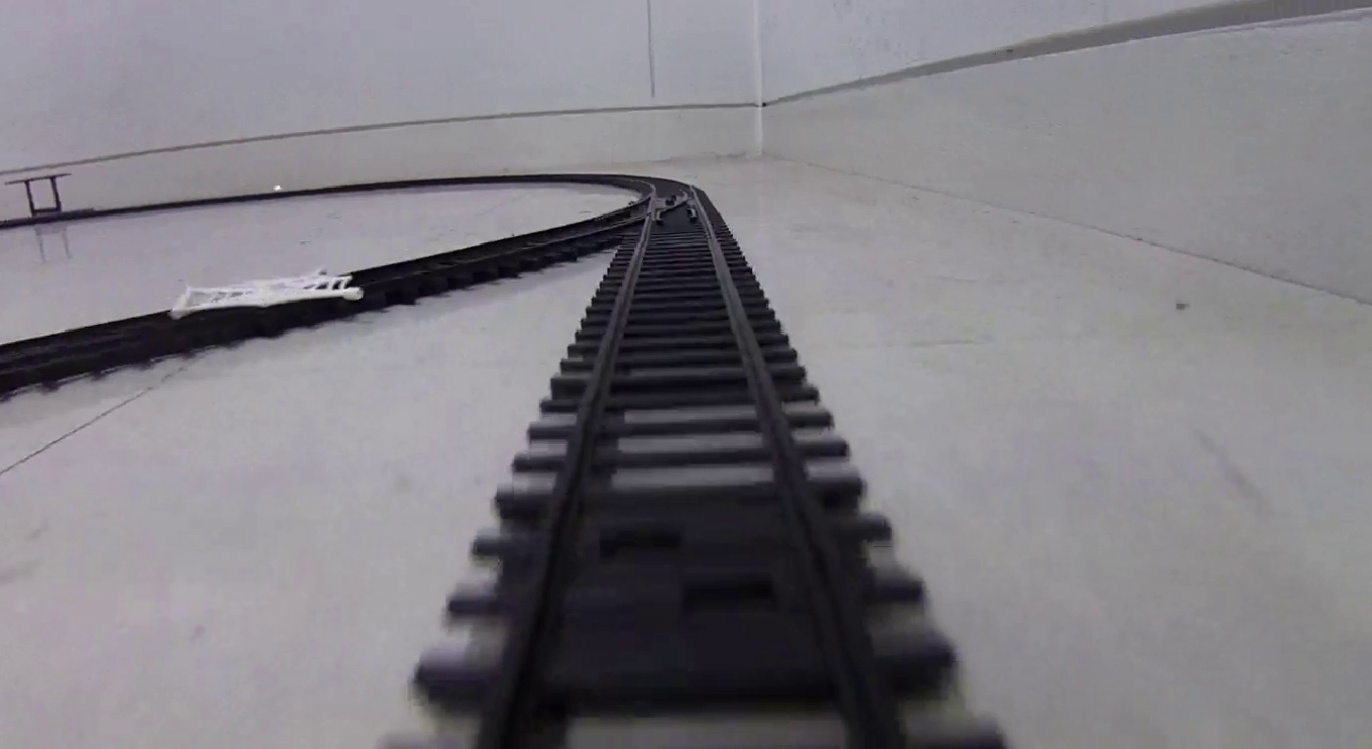web: (173, 270, 362, 304)
